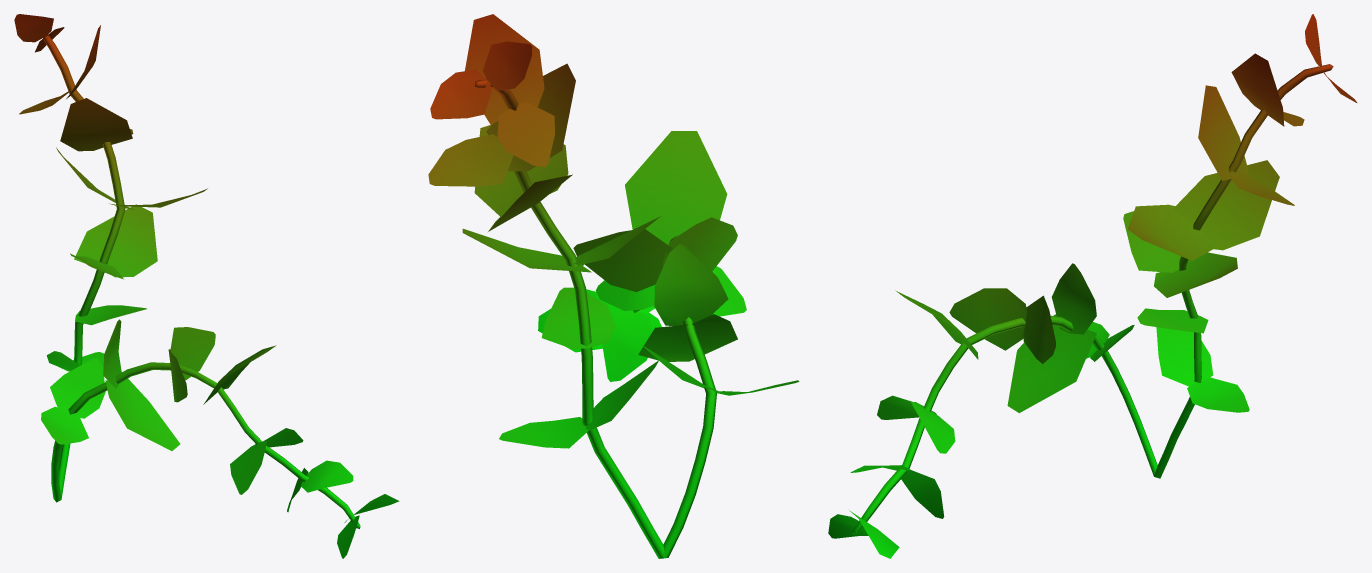
File: Rubber Bush_LOD4_Var10_xffhfekia.fbx
3 views of the same model, side by side, from view 1: azimuth 30°, elevation 25°; view 2: azimuth 150°, elevation 25°; view 3: azimuth 270°, elevation 25° (orthographic). The views are drawn at different scales.
Visible parts, largest first — view 1: _1qxx_Var10_LOD4; view 2: _1qxx_Var10_LOD4; view 3: _1qxx_Var10_LOD4.
Boxes of the visible parts, x1,y1,x2,y2 form: _1qxx_Var10_LOD4: (14, 14, 399, 558); _1qxx_Var10_LOD4: (428, 14, 799, 558); _1qxx_Var10_LOD4: (828, 14, 1357, 558).
Size of the model in its own units: 24.11 by 36.44 by 36.43.
